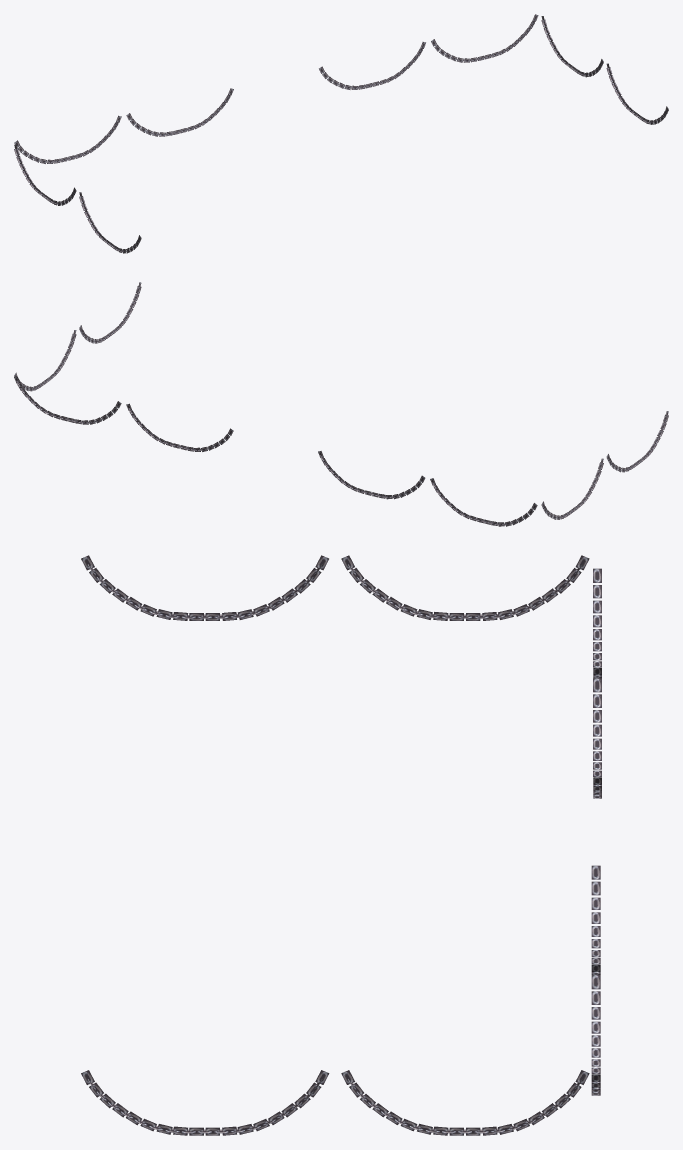
The model's file is scaffold_up_found_dock_6x4_chains.glb.
The picture shows the model from 3 angles, top to bottom: view 1: azimuth 30°, elevation 25°; view 2: azimuth 150°, elevation 25°; view 3: azimuth 270°, elevation 25°; orthographic projection. The views are drawn at different scales.
Parts seen in each view (by area): view 1: scaffold_up_found_dock_6x4_chains_part0; view 2: scaffold_up_found_dock_6x4_chains_part0; view 3: scaffold_up_found_dock_6x4_chains_part0.
Part boxes in pixels (x1,y1,x2,y2): scaffold_up_found_dock_6x4_chains_part0: [14, 14, 668, 253]; scaffold_up_found_dock_6x4_chains_part0: [14, 282, 668, 526]; scaffold_up_found_dock_6x4_chains_part0: [81, 555, 601, 1135].
Bounding box in the file's own units: 6.43 × 0.3803 × 2.73.
Materials: 1 (1 with a texture image).
